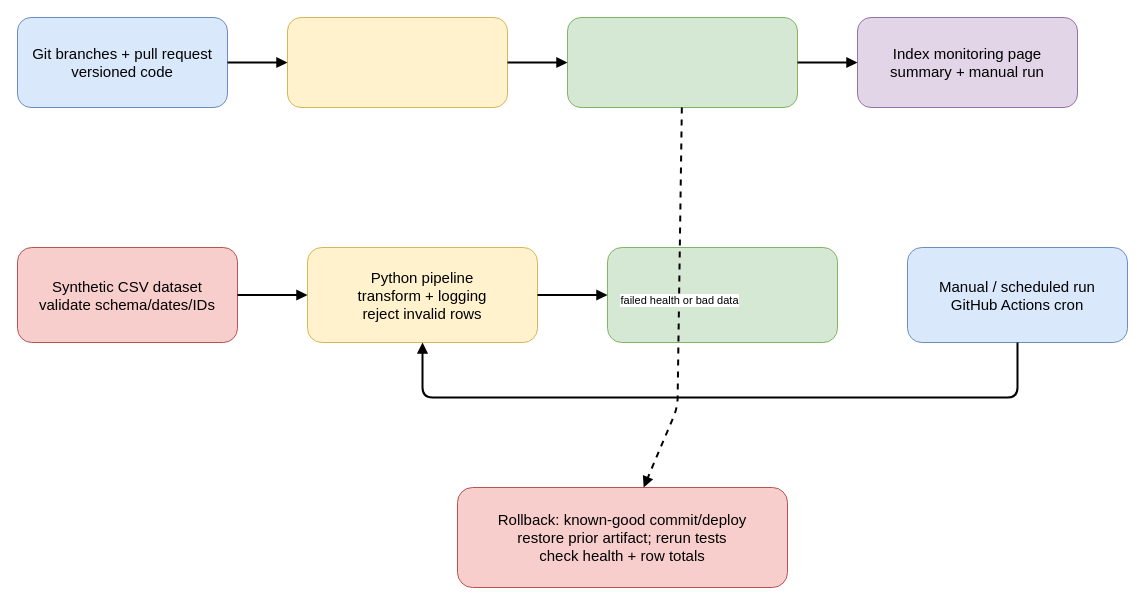
The diagram is 1145 pixels wide and 605 high, and some of its shapes have lost their labels. Each missing label, with the centre of its shape:
CI: pytest + schema checks failure blocks release: [397,62]
Processed CSV + JSON artifact + reconciliation: [722,294]
Render web service Flask dashboard + /health logs + deploy history: [682,62]
